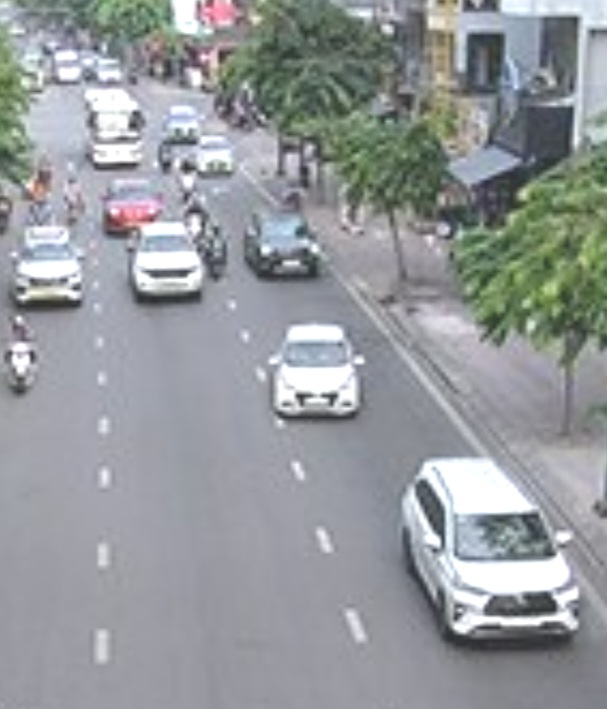car: (398, 453, 583, 646), (268, 321, 365, 423), (11, 227, 87, 307), (130, 227, 205, 301), (242, 210, 321, 279), (103, 178, 162, 237), (196, 136, 236, 176)
